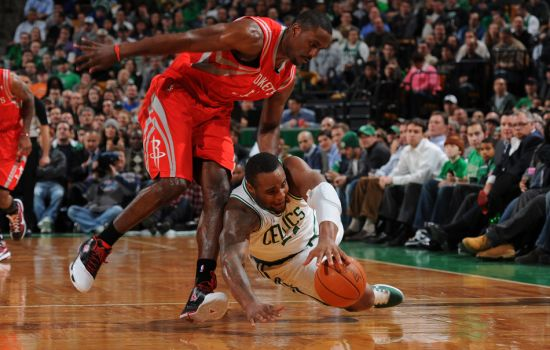10+: (1, 1, 550, 329)
down: (222, 136, 389, 319)
